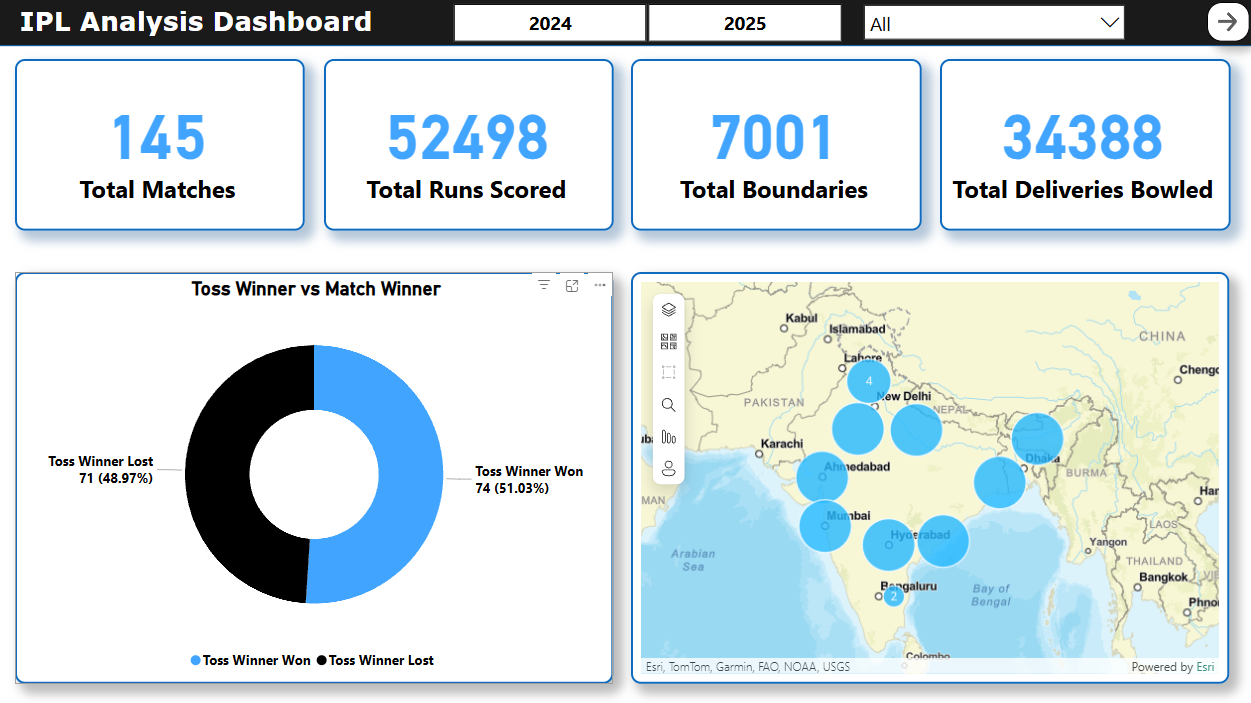

This screenshot's page, from the dashboard's own definition file:
{"tool":"powerbi","page":{"name":"Overview","canvas":[1280,720],"ordinal":0},"visuals":[{"type":"shape","box":[0,0,1280.4,53.5],"z":0},{"type":"textbox","box":[26.9,6,397.1,47.9],"z":1000},{"type":"card","fields":{"Values":["Count(ipl_filtered_24_25.match_id)"]},"box":[27.2,66.2,292,173.2],"z":2000},{"type":"card","fields":{"Values":["Sum(ipl_filtered_24_25.runs_total)"]},"box":[338.2,66.2,292,173.2],"z":3000},{"type":"card","fields":{"Values":["CountNonNull(ipl_filtered_24_25.ball)"]},"box":[959.4,66.2,292.9,173.2],"z":4000},{"type":"card","fields":{"Values":["CountNonNull(ipl_filtered_24_25.runs_batter)"]},"box":[648.4,66.2,292.9,173.2],"z":5000},{"type":"donutChart","title":"Toss Winner vs Match Winner","fields":{"Category":["ipl_summary_24_25.TossOutcome"],"Y":["Count(ipl_filtered_24_25.match_id)"]},"box":[27.2,281.1,603,415.3],"z":6000},{"type":"esriVisual","title":"Stadiums","fields":{"Location":["ipl_filtered_24_25.city"],"Size":["CountNonNull(ipl_summary_24_25.match_id)"]},"box":[648.4,281.1,603,415.3],"z":7000},{"type":"slicer","fields":{"Values":["ipl_summary_24_25.season"]},"box":[444,4,441,51.9],"z":8000},{"type":"slicer","fields":{"Values":["ipl_filtered_24_25.batting_team"]},"box":[872.8,2,283.2,52.4],"z":9000},{"type":"actionButton","box":[1228.6,9.1,43.3,40.3],"z":10000}]}

Visuals, with their boxes in screenshot pixels (x1, y1, x2, y2), scaled from the page's 1280x720 canvas onto the 1251x703 screenshot:
shape: [0,0,1250,52]
textbox: [26,6,414,53]
card - Count(ipl_filtered_24_25.match_id): [27,65,312,234]
card - Sum(ipl_filtered_24_25.runs_total): [331,65,616,234]
card - CountNonNull(ipl_filtered_24_25.ball): [938,65,1224,234]
card - CountNonNull(ipl_filtered_24_25.runs_batter): [634,65,920,234]
"Toss Winner vs Match Winner" donutChart: [27,274,616,680]
"Stadiums" esriVisual: [634,274,1223,680]
slicer - ipl_summary_24_25.season: [434,4,865,55]
slicer - ipl_filtered_24_25.batting_team: [853,2,1130,53]
actionButton: [1201,9,1243,48]
